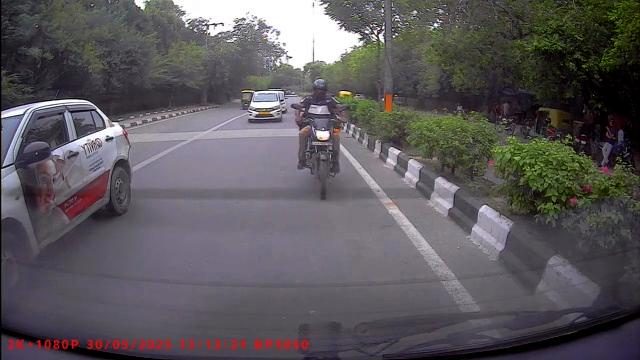motorcycle_with_helmet: (293, 76, 346, 202)
